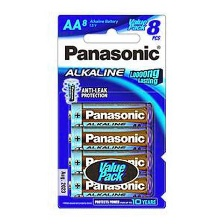battery: (64, 124, 155, 152), (65, 101, 155, 128), (67, 172, 156, 199), (66, 151, 155, 177)
